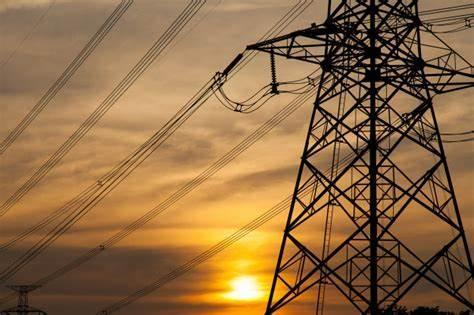power_tower: (246, 2, 474, 315)
